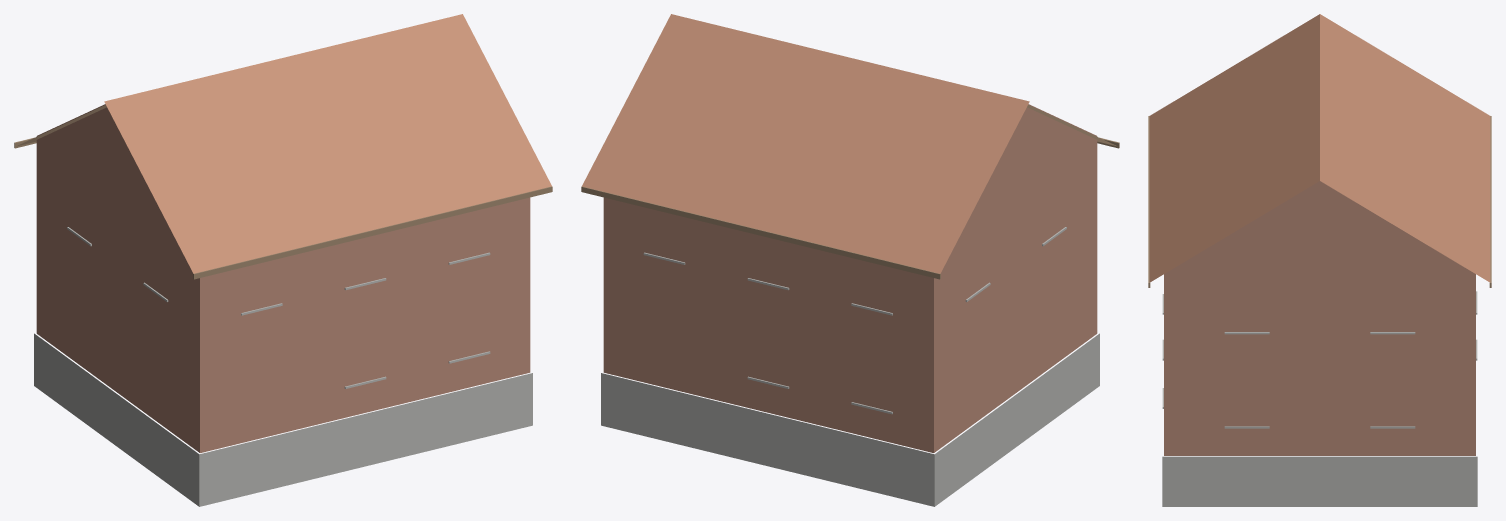
File: house2_brick.glb
3 views of the same model, side by side, from view 1: azimuth 30°, elevation 25°; view 2: azimuth 150°, elevation 25°; view 3: azimuth 270°, elevation 25° (orthographic). The views are drawn at different scales.
Visible parts, largest first — view 1: hi, far; view 2: hi, far; view 3: hi, far.
Boxes of the visible parts, left/top/right/bottom form: hi: left=14, top=14, right=552, bottom=506; far: left=36, top=138, right=529, bottom=452; hi: left=581, top=14, right=1119, bottom=506; far: left=603, top=138, right=1097, bottom=452; hi: left=1148, top=14, right=1491, bottom=506; far: left=1164, top=267, right=1475, bottom=455.
Size of the model in its own units: 11.4 by 10.57 by 9.9.
